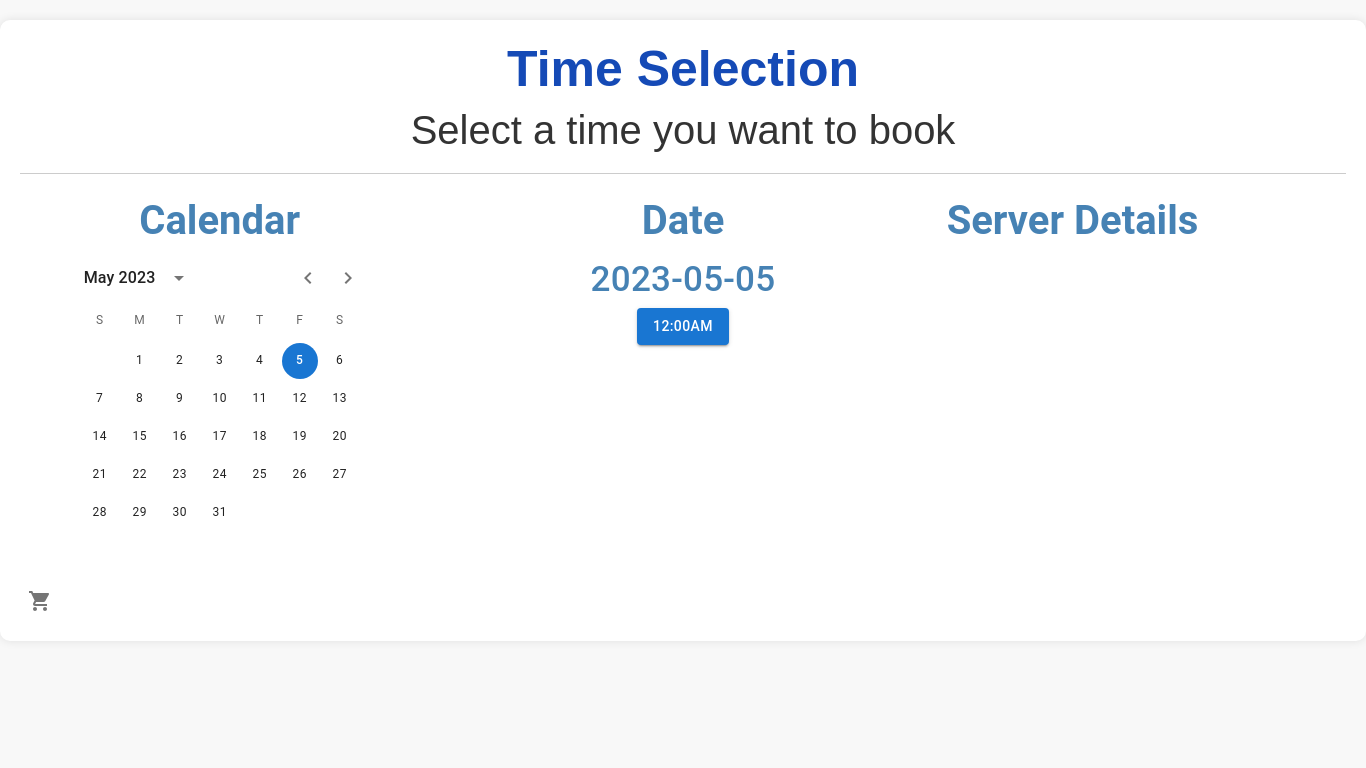
Test: Shopping Cart › reserve all shopping cart
This screenshot has width=1366, height=768.
Click the button named "cart": (40, 601) [20,581,60,621]
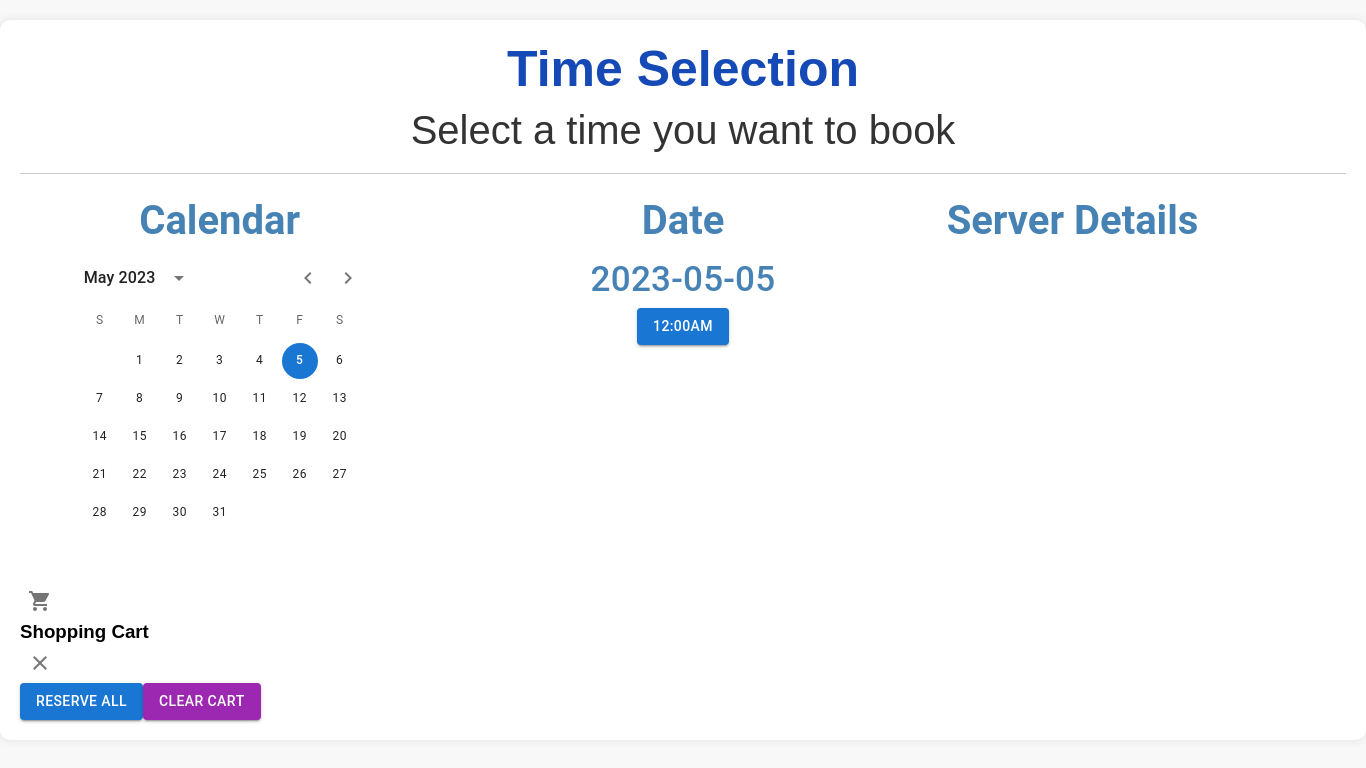
Click the button "Reserve All": (82, 702) [20,683,143,720]
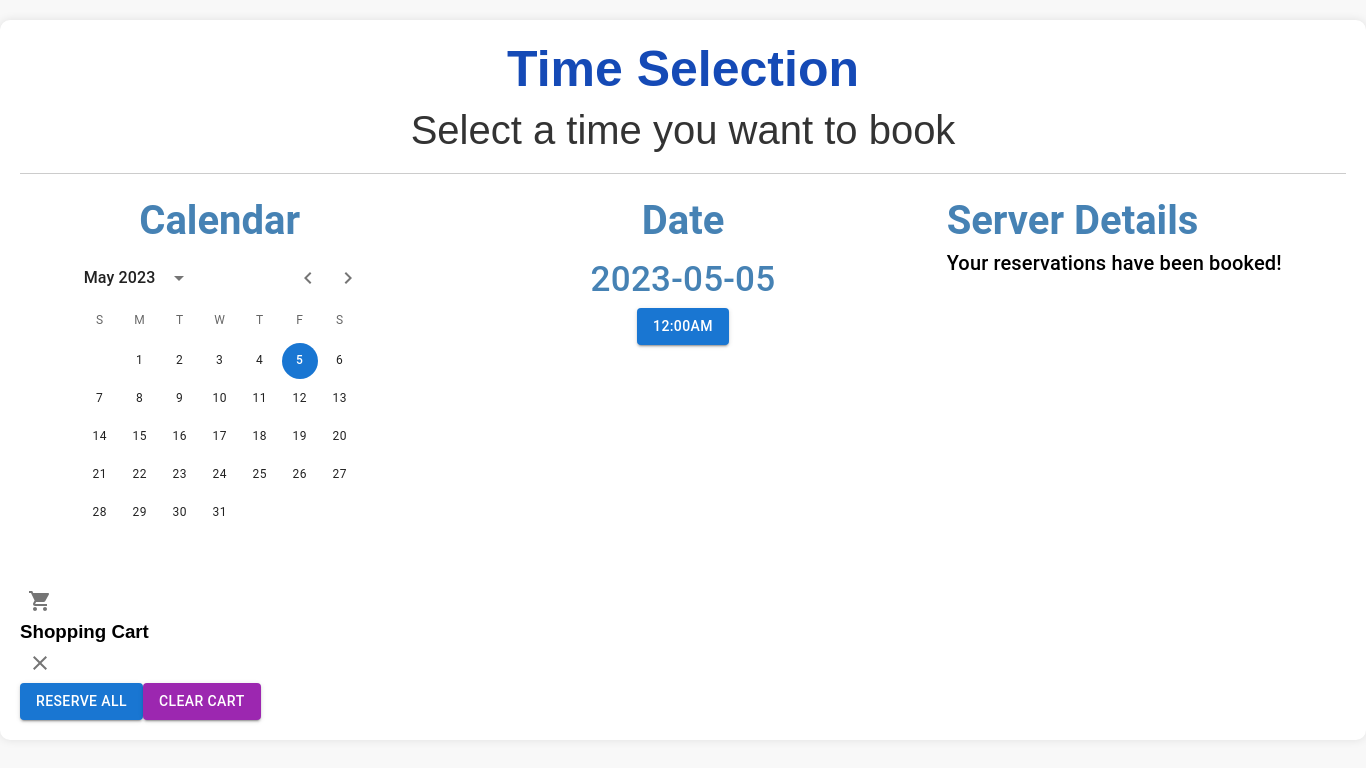
Expected: the heading "Your reservations have been booked!" is shown, [947,251,1282,275]
